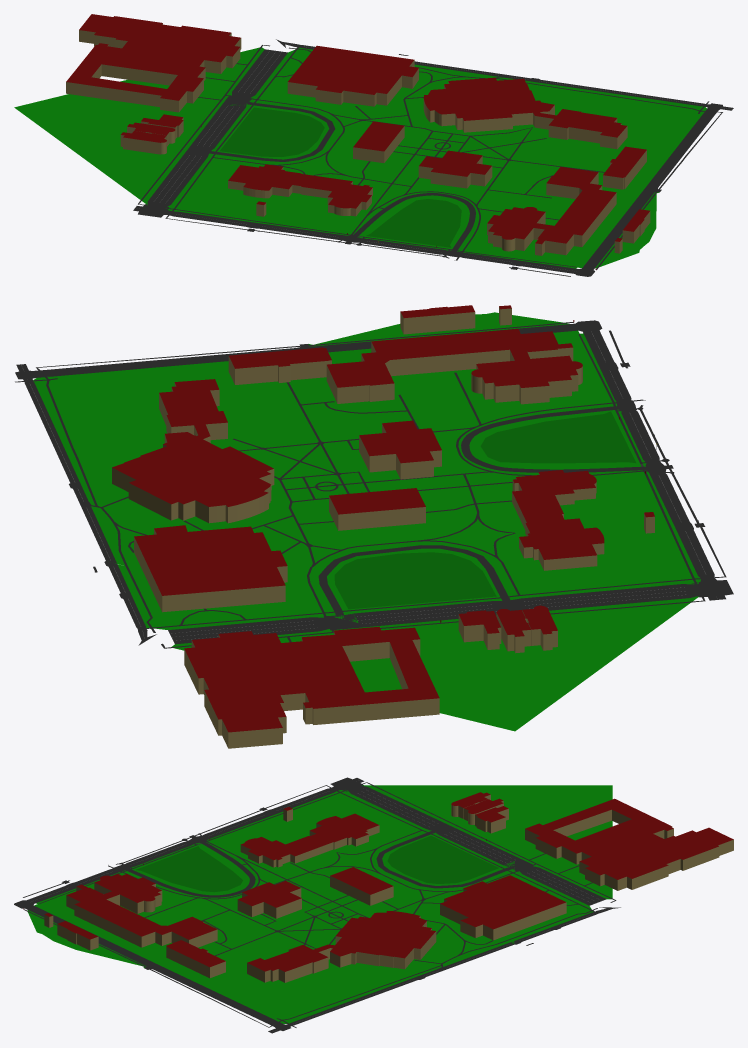
File: AcademicSideFinal.obj
3 renders of one model, top to bottom at view 1: azimuth 30°, elevation 25°; view 2: azimuth 150°, elevation 25°; view 3: azimuth 270°, elevation 25°, orthographic. The views are drawn at different scales.
Visible parts, largest first — view 1: SurfaceArea588, Building_Mitchell_Fine_Arts_Center, Building549, SurfaceArea589, Building576, Building_Clive_M._Beck_Center, Building553, Building_J._Douglas_Gay_Jr._/_Frances_Carrick_Thomas_Library, SurfaceArea546, Road_North_Broadway, SurfaceArea590, SurfaceArea543 (+12 smaller); view 2: SurfaceArea588, SurfaceArea589, Building_Mitchell_Fine_Arts_Center, Building549, Building576, Building_Clive_M._Beck_Center, Building553, SurfaceArea546, Building_J._Douglas_Gay_Jr._/_Frances_Carrick_Thomas_Library, Road_North_Broadway, SurfaceArea590, SurfaceArea543 (+11 smaller); view 3: SurfaceArea588, Building549, Building_Mitchell_Fine_Arts_Center, SurfaceArea589, Building576, Building_Clive_M._Beck_Center, Building553, Building_J._Douglas_Gay_Jr._/_Frances_Carrick_Thomas_Library, SurfaceArea546, Road_North_Broadway, SurfaceArea590, SurfaceArea543 (+12 smaller).
Boxes of the visible parts, box(x1,y1,x2,y2) form: SurfaceArea588: box(66, 64, 672, 268); Building_Mitchell_Fine_Arts_Center: box(423, 77, 627, 149); Building549: box(79, 14, 241, 85); SurfaceArea589: box(14, 47, 312, 144); Building576: box(487, 166, 616, 255); Building_Clive_M._Beck_Center: box(287, 45, 418, 106); Building553: box(66, 43, 205, 112); Building_J._Douglas_Gay_Jr._/_Frances_Carrick_Thomas_Library: box(228, 164, 372, 216); SurfaceArea546: box(220, 107, 324, 156); Road_North_Broadway: box(148, 49, 287, 204); SurfaceArea590: box(587, 89, 706, 152); SurfaceArea543: box(366, 199, 461, 247); SurfaceArea588: box(66, 312, 700, 678); SurfaceArea589: box(117, 564, 586, 731); Building_Mitchell_Fine_Arts_Center: box(112, 379, 274, 523); Building549: box(184, 631, 364, 748); Building576: box(326, 329, 582, 404); Building_Clive_M._Beck_Center: box(134, 525, 287, 612); Building553: box(301, 626, 439, 724); SurfaceArea546: box(334, 552, 496, 609); Building_J._Douglas_Gay_Jr._/_Frances_Carrick_Thomas_Library: box(512, 470, 604, 570); Road_North_Broadway: box(168, 584, 689, 644); SurfaceArea590: box(33, 365, 185, 452); SurfaceArea543: box(480, 411, 635, 463); SurfaceArea588: box(27, 785, 514, 991); Building549: box(575, 819, 733, 890); Building_Mitchell_Fine_Arts_Center: box(247, 911, 436, 982); SurfaceArea589: box(515, 785, 612, 940); Building576: box(66, 874, 217, 947); Building_Clive_M._Beck_Center: box(440, 875, 566, 940); Building553: box(525, 798, 673, 864); Building_J._Douglas_Gay_Jr._/_Frances_Carrick_Thomas_Library: box(240, 813, 379, 867); SurfaceArea546: box(387, 835, 498, 883); Road_North_Broadway: box(351, 787, 606, 905); SurfaceArea590: box(215, 991, 376, 1023); SurfaceArea543: box(135, 846, 242, 892).
Bounding box in the file's own units: 373 × 7.5 × 443.
